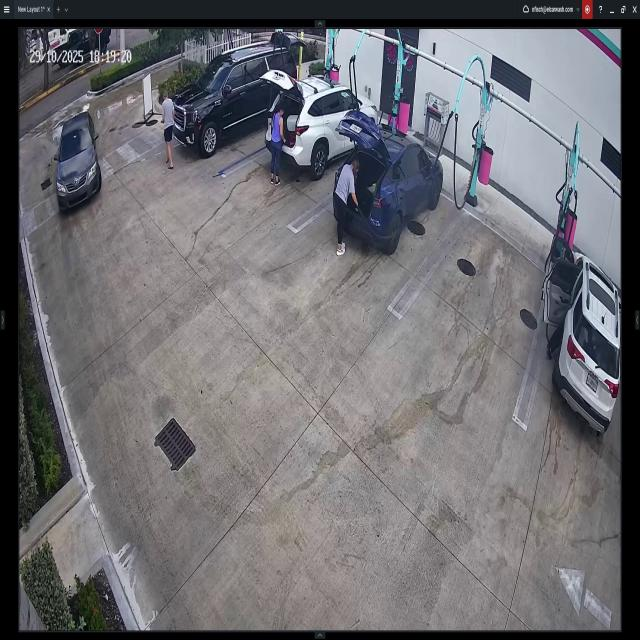Car: (335, 116, 444, 255), (170, 41, 297, 152), (552, 239, 618, 433), (262, 70, 378, 174), (55, 111, 101, 206)
